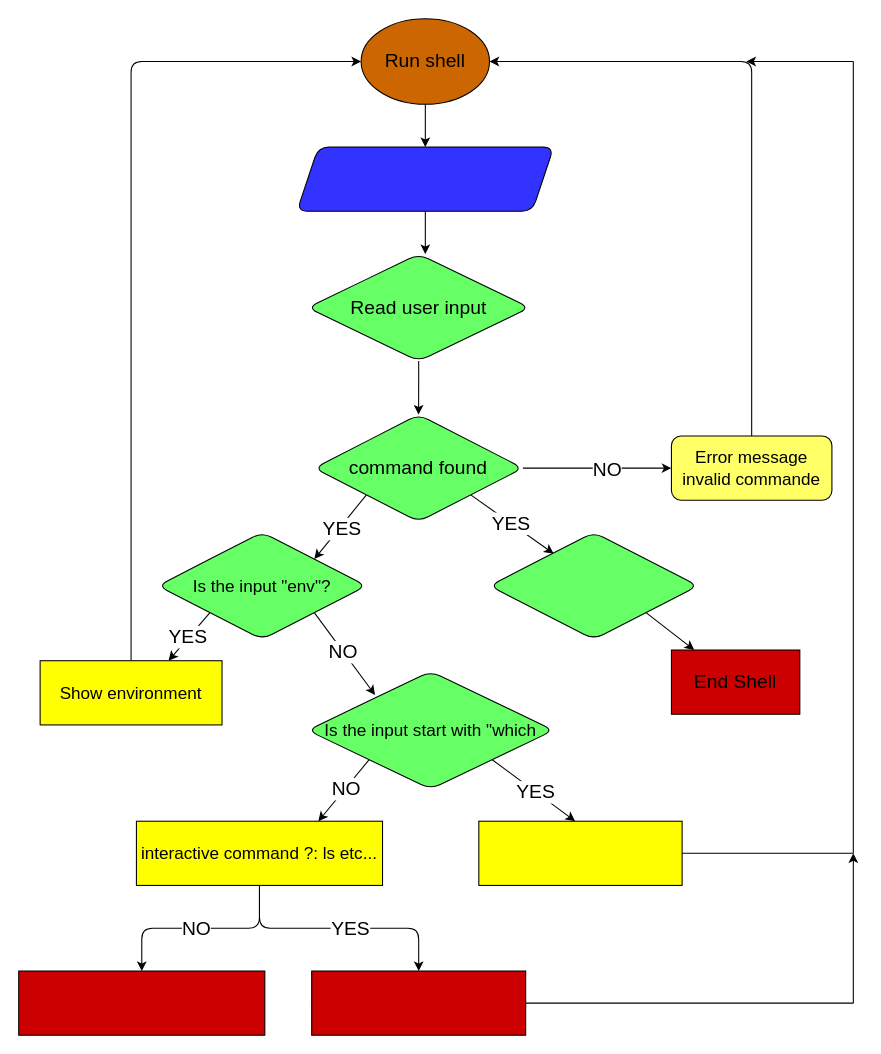
This 881x1054 diagram has some shape labels left out. The centre of each missing label's shape, as x and y in pixels:
"Exit" goes at [593,585].
"Find the command PATH or show error" goes at [580,852].
"Get out Run the command" goes at [141,1002].
"Run the input command" goes at [418,1002].
"Start loop" goes at [425,178].
